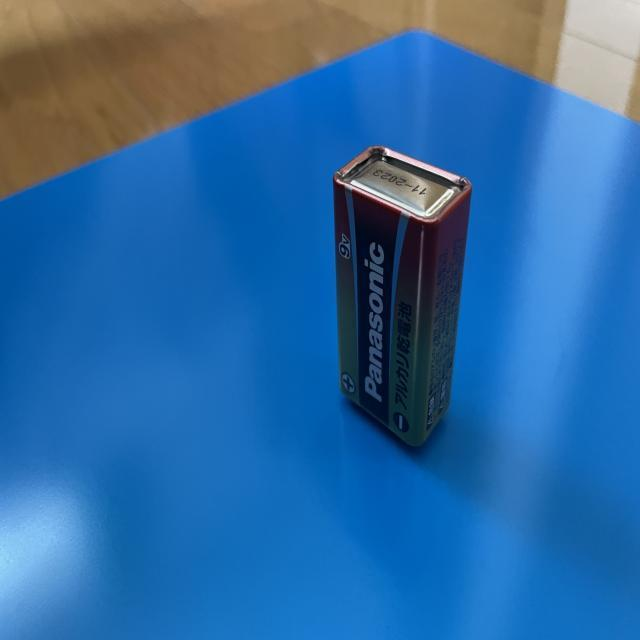9V: (335, 142, 473, 449)
